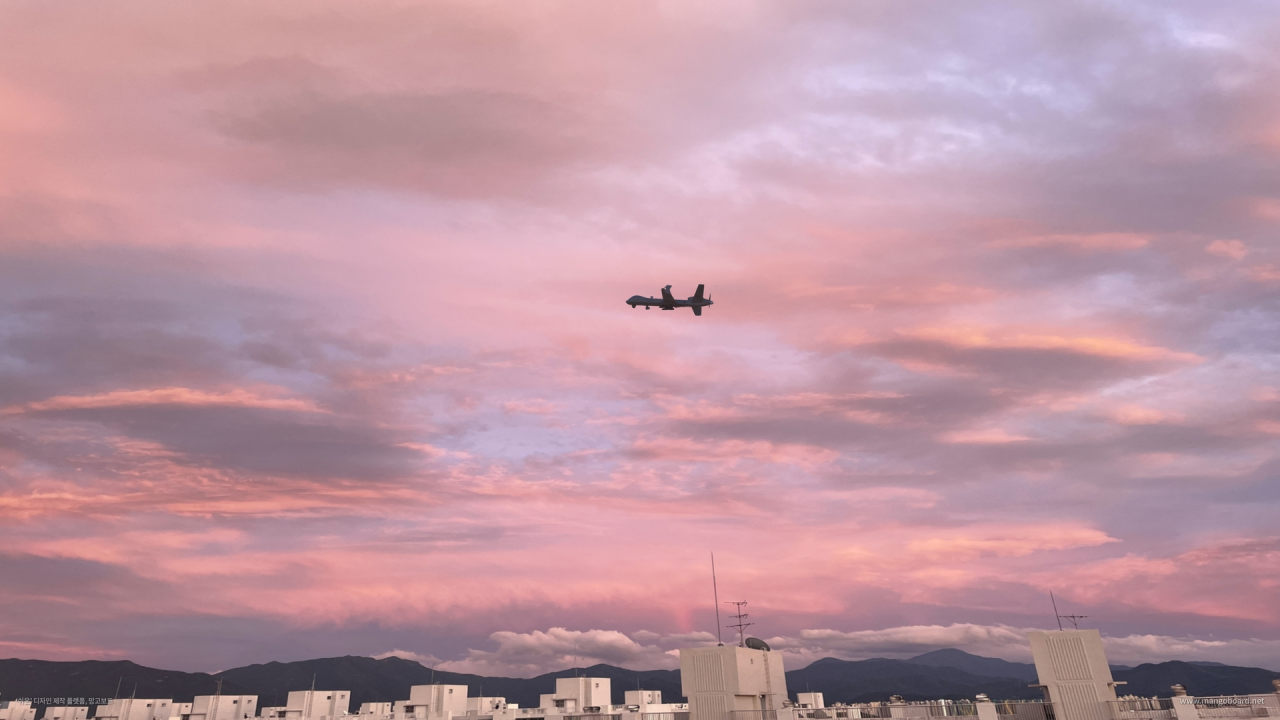military drone: (625, 283, 714, 316)
